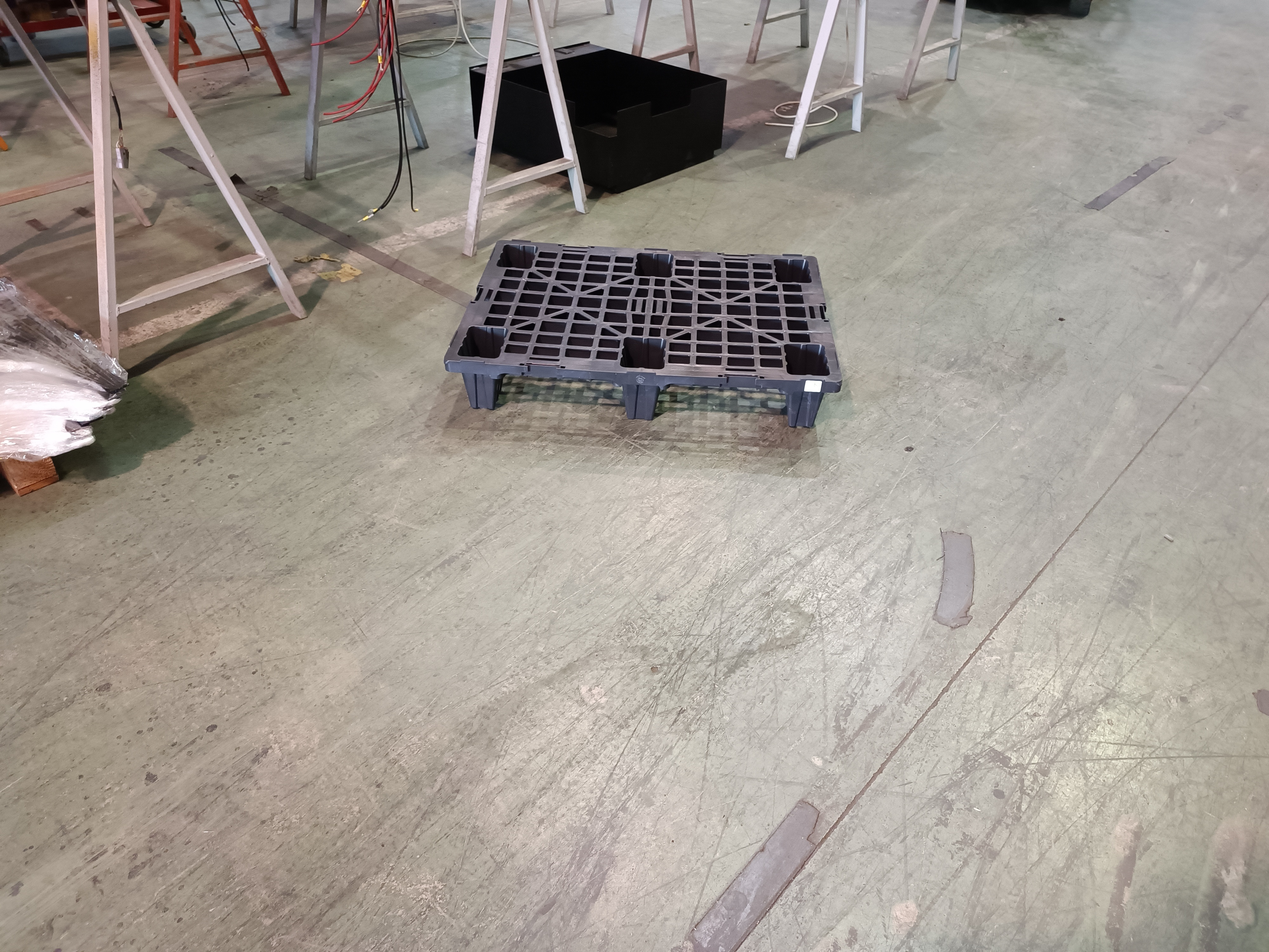block: (609, 367, 660, 428), (455, 359, 504, 416), (788, 378, 827, 425)
front: (444, 359, 844, 429)
hole pallet: (656, 386, 788, 428), (497, 382, 627, 424)
